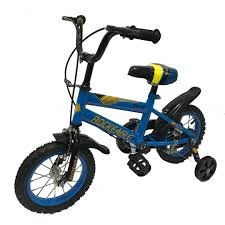bicycle: (11, 13, 225, 220)
